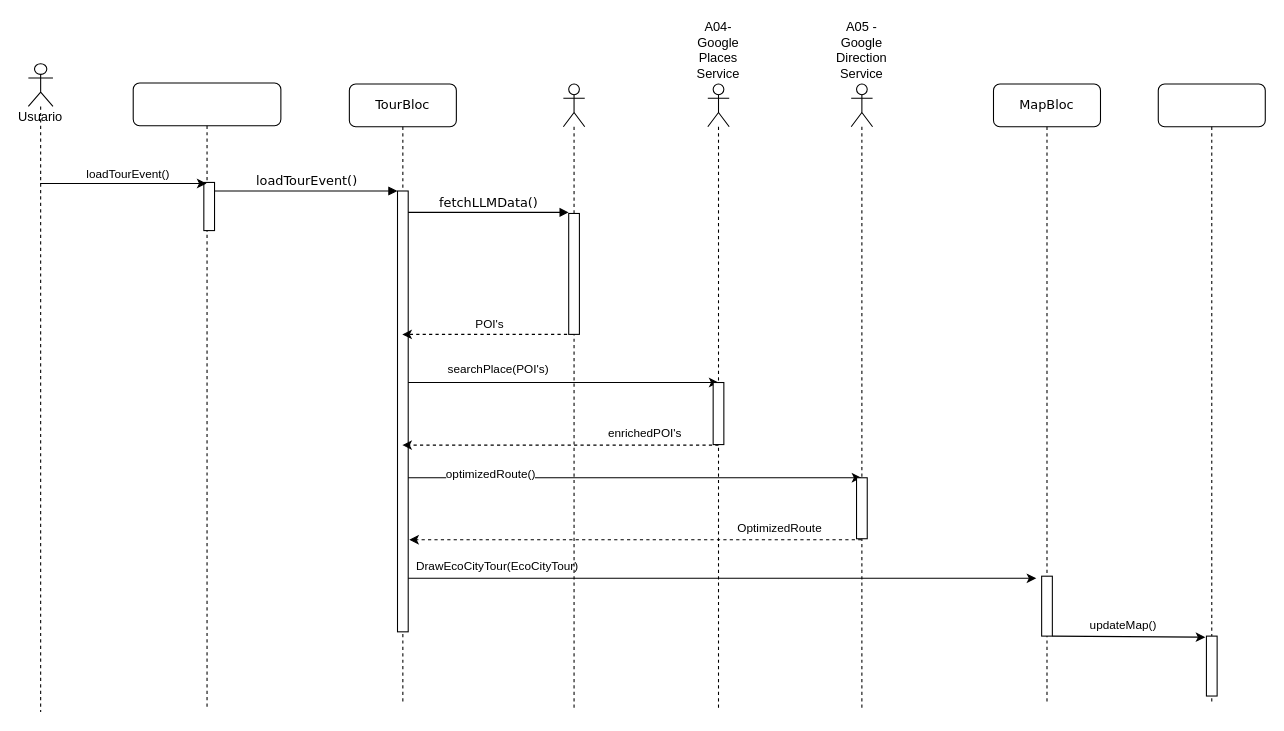
This 1284x731 diagram has some shape labels left out. Each missing label, with the box of its shape:
A03 - Gemini-pro 1.5: (562, 83, 585, 708)
MapScreen: (1157, 83, 1265, 705)
TourSelectionScreen: (132, 82, 281, 707)
